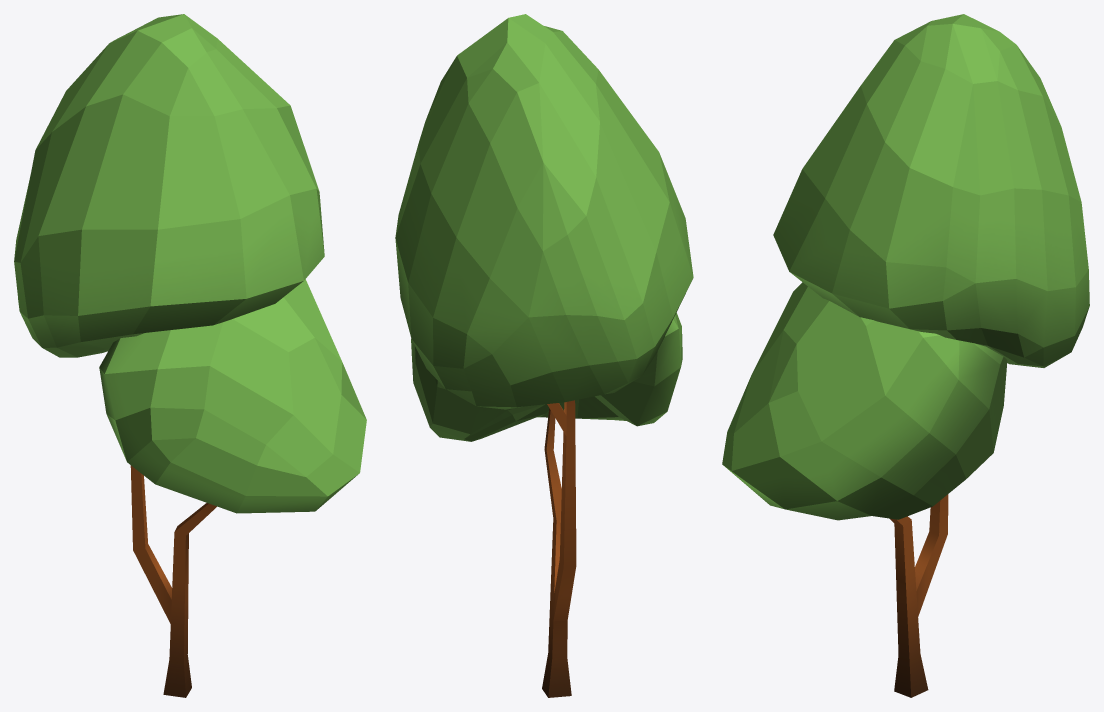
File: Tree_Sml-02.FBX
3 views of the same model, side by side, from view 1: azimuth 30°, elevation 25°; view 2: azimuth 150°, elevation 25°; view 3: azimuth 270°, elevation 25° (orthographic). The views are drawn at different scales.
Parts seen in each view (by area): view 1: Tree_Sml-02; view 2: Tree_Sml-02; view 3: Tree_Sml-02.
Part boxes in pixels (bbox=[...]): Tree_Sml-02: bbox=[14, 14, 366, 697]; Tree_Sml-02: bbox=[395, 14, 693, 697]; Tree_Sml-02: bbox=[722, 14, 1089, 697].
Size of the model in its own units: 66.66 by 161 by 78.69.
1 material, 1 textured.
